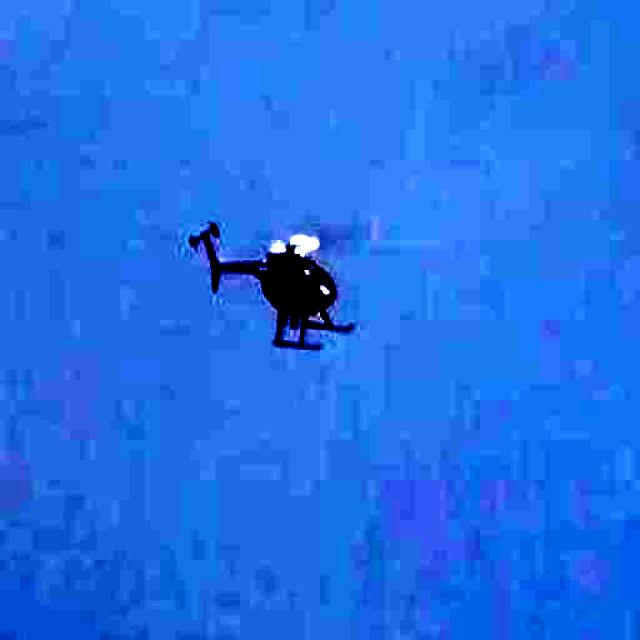drone: (146, 158, 386, 375)
